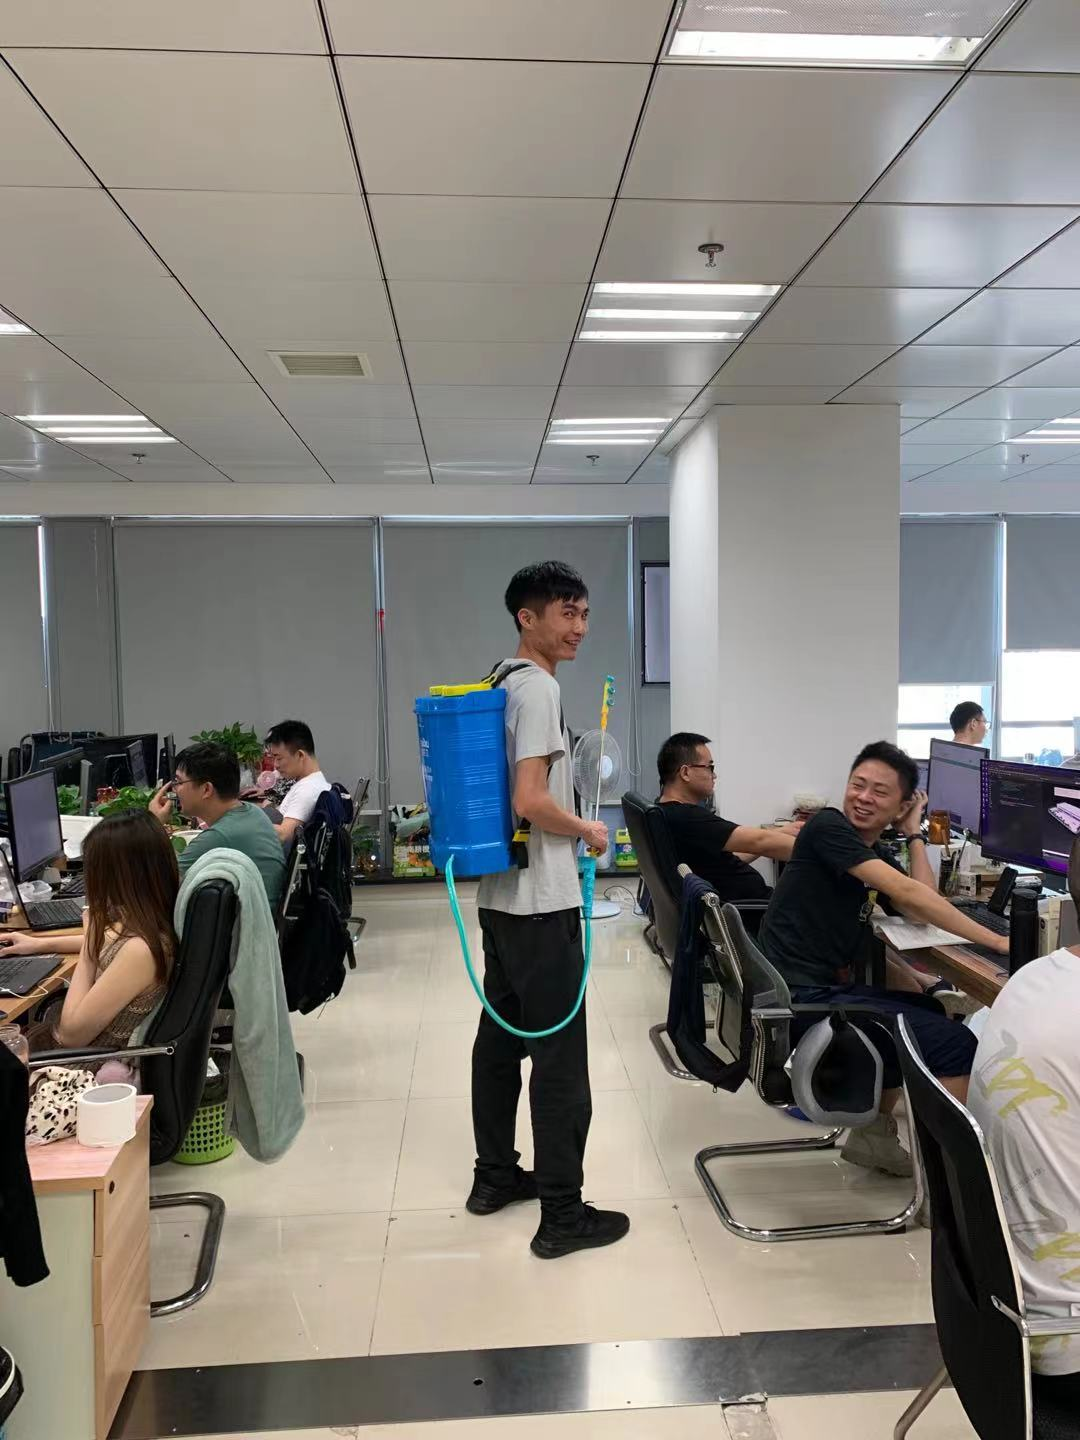berrl: (400, 674, 525, 886)
